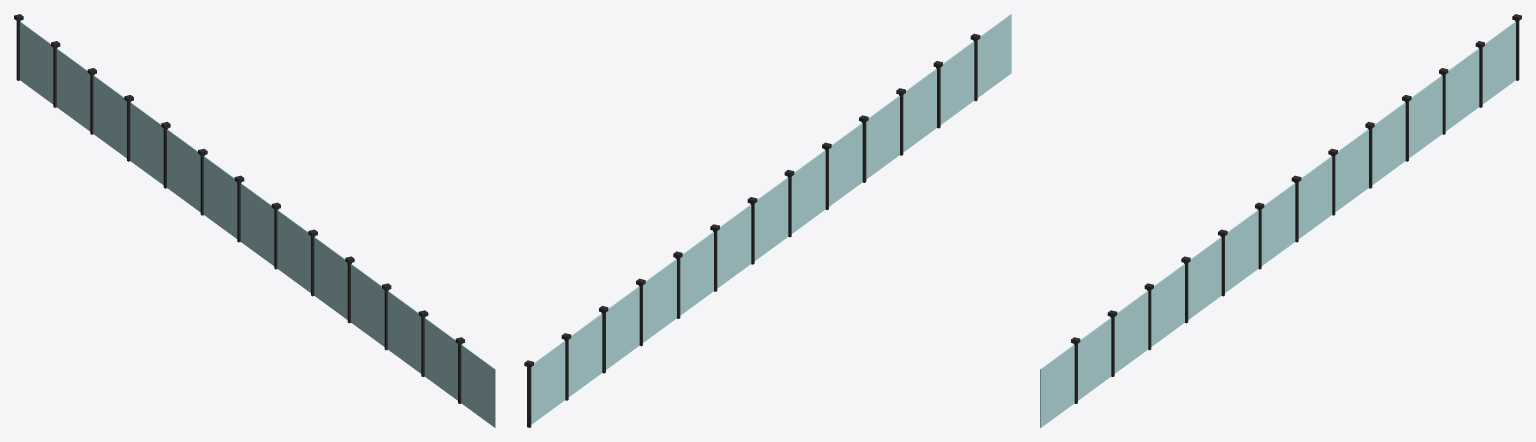
The model's file is Balcony.001.fbx.
3 renders of one model, left to right at view 1: azimuth 30°, elevation 25°; view 2: azimuth 150°, elevation 25°; view 3: azimuth 330°, elevation 25°, orthographic.
Visible parts, largest first — view 1: Balcony.001; view 2: Balcony.001; view 3: Balcony.001.
Boxes of the visible parts, x1,y1,x2,y2 form: Balcony.001: (14,14,495,427); Balcony.001: (524,14,1011,427); Balcony.001: (1040,14,1521,427).
Bounding box in the file's own units: 44.44 × 437 × 5906.
